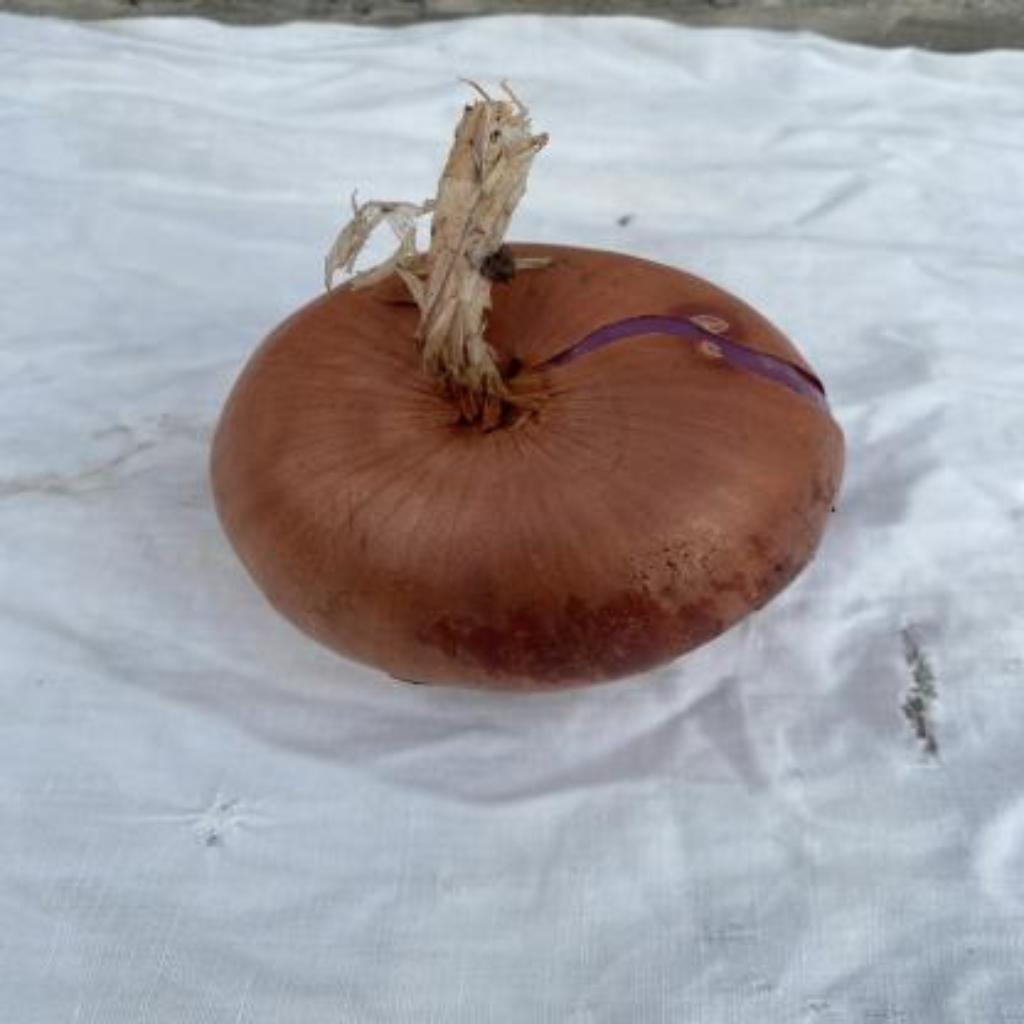Onion: (212, 84, 847, 690)
